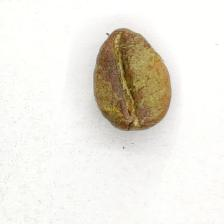NG: (96, 38, 163, 120)
